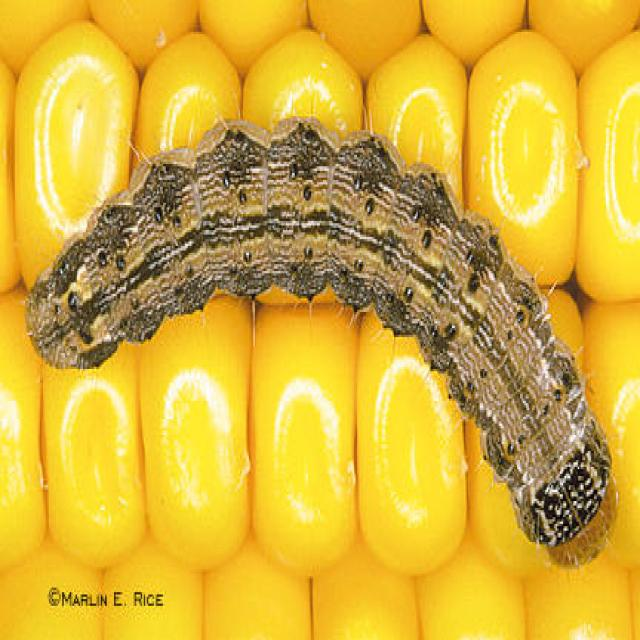Corn-earworm: (34, 115, 614, 575)
